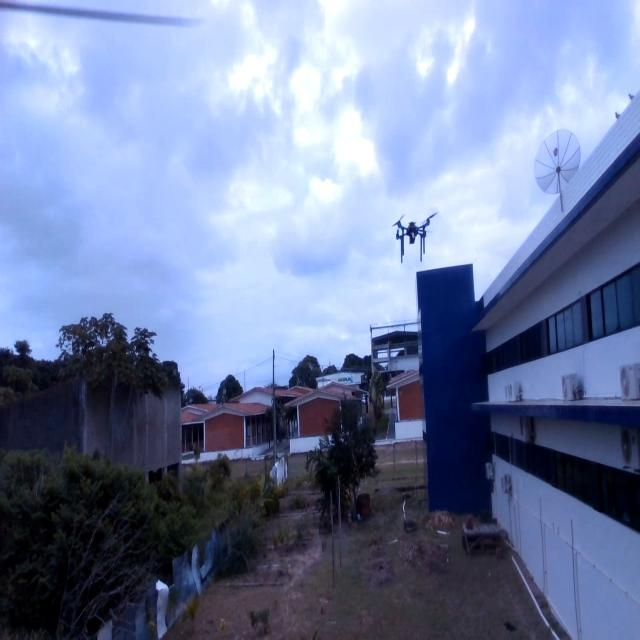-uav-: (383, 194, 445, 270)
